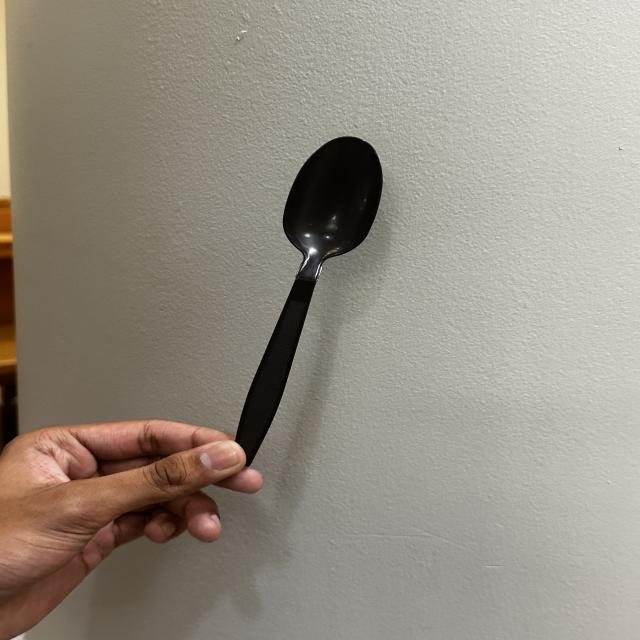spoon: (197, 65, 440, 471)
